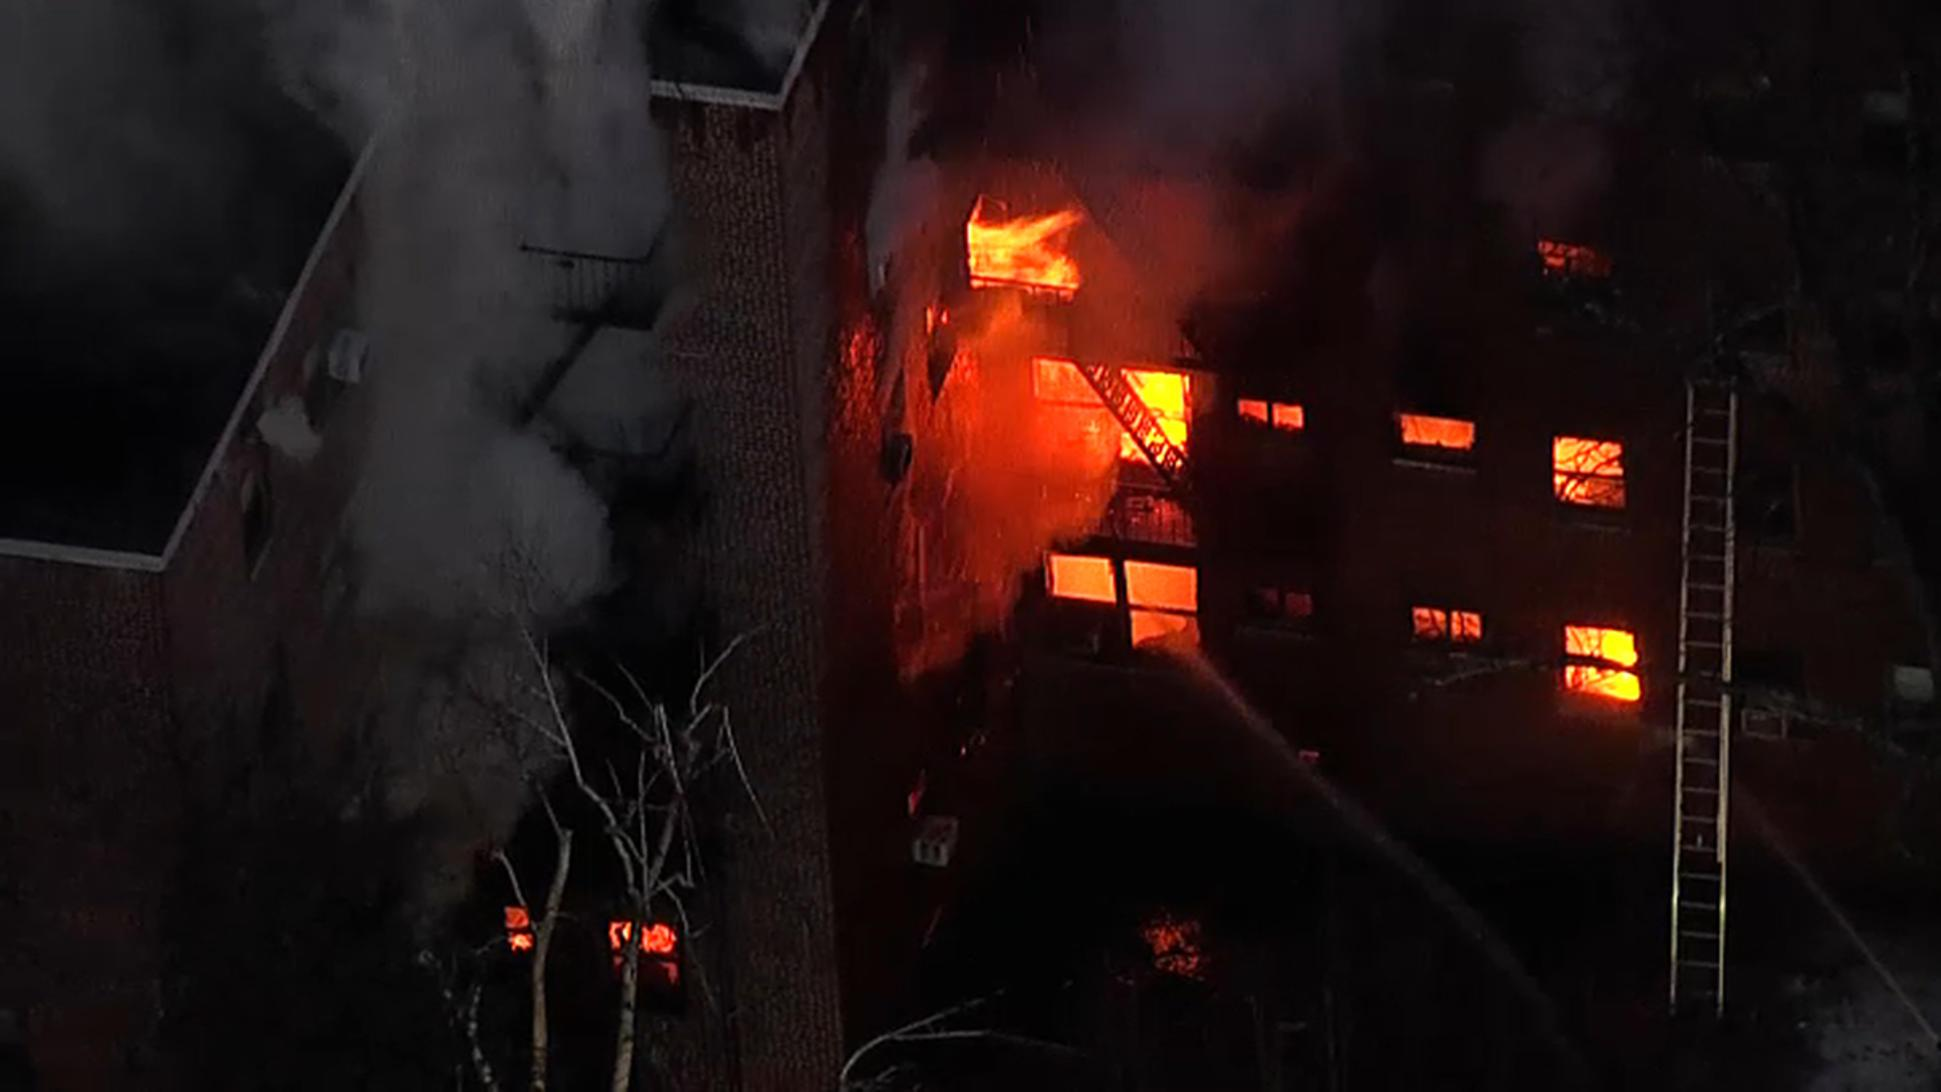Fire: (900, 165, 1214, 663), (499, 875, 687, 1011), (1546, 427, 1621, 532), (1569, 615, 1645, 709)
